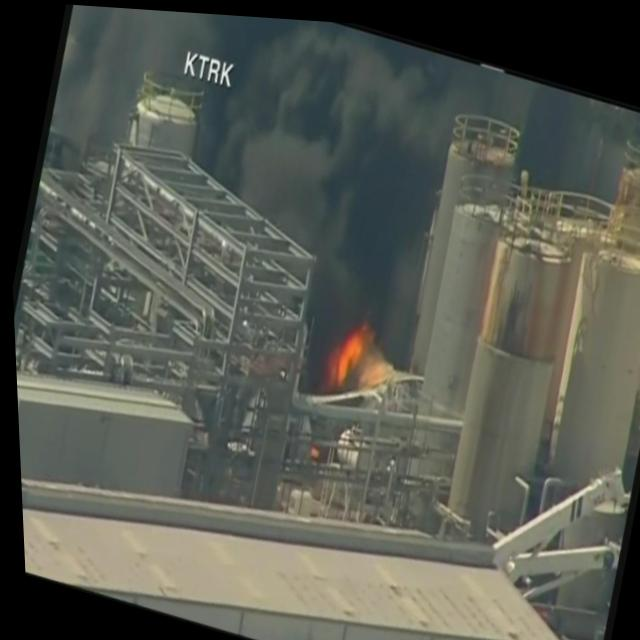fire: (315, 300, 380, 396), (303, 438, 319, 456)
